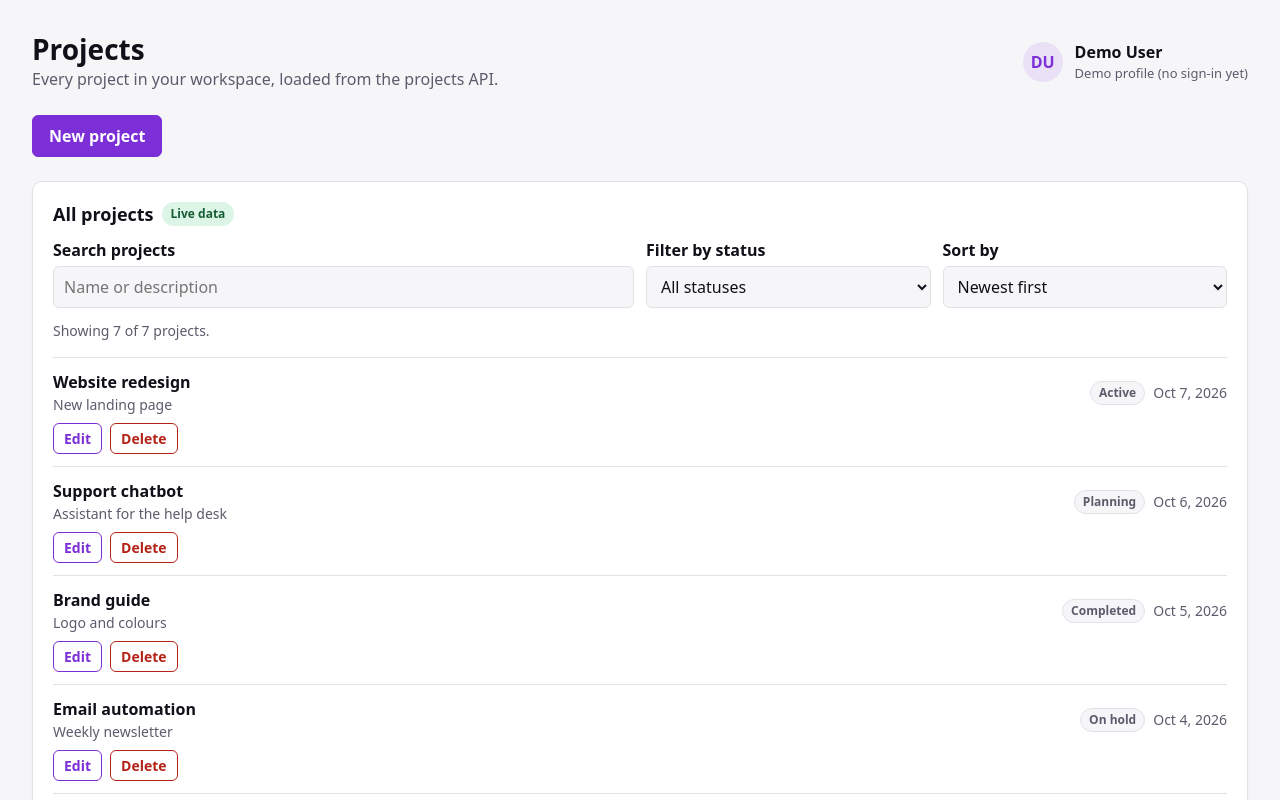
Projects page: create, edit, delete › says so when an edited project no longer matches the filter
Select "Completed" in the dropdown labelled "Filter by status" at (788, 287), box [646, 266, 930, 308]
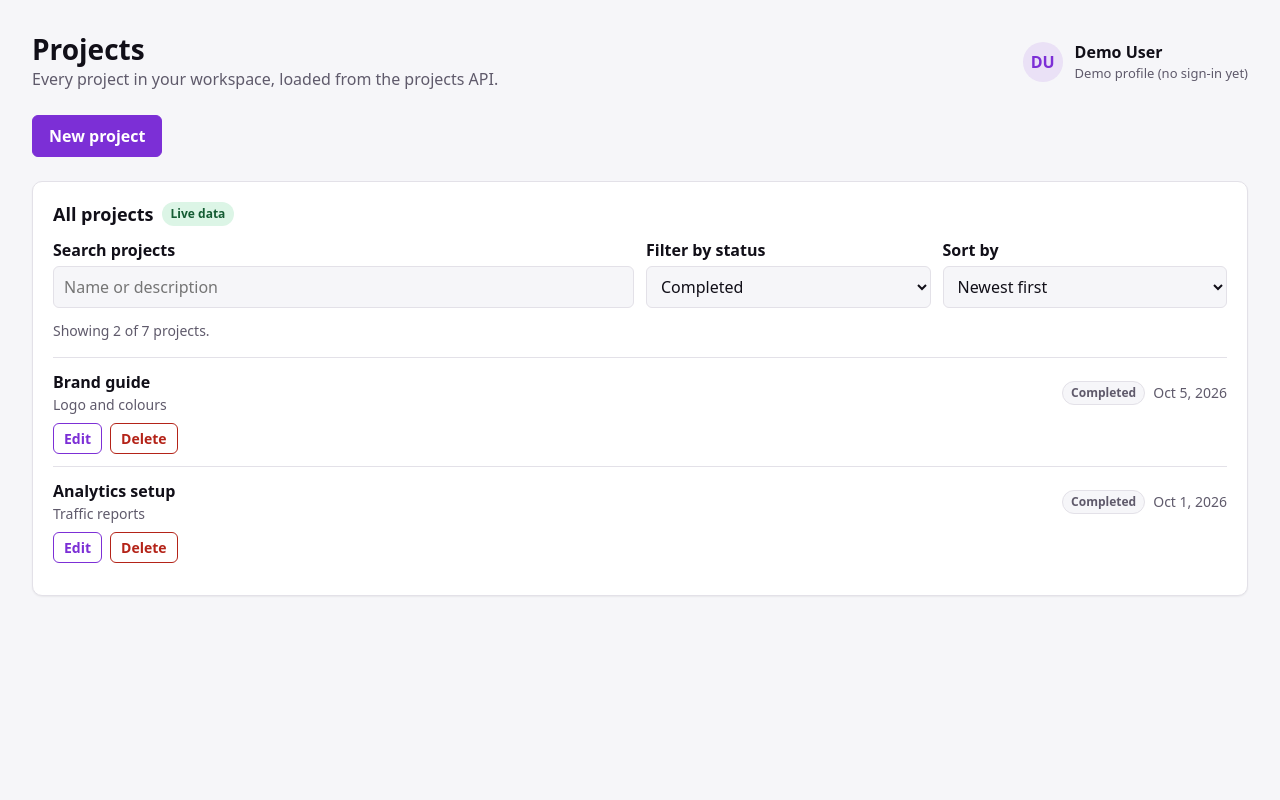
Click the button with aria-label "Edit Brand guide".
click(78, 438)  # box [53, 423, 102, 454]
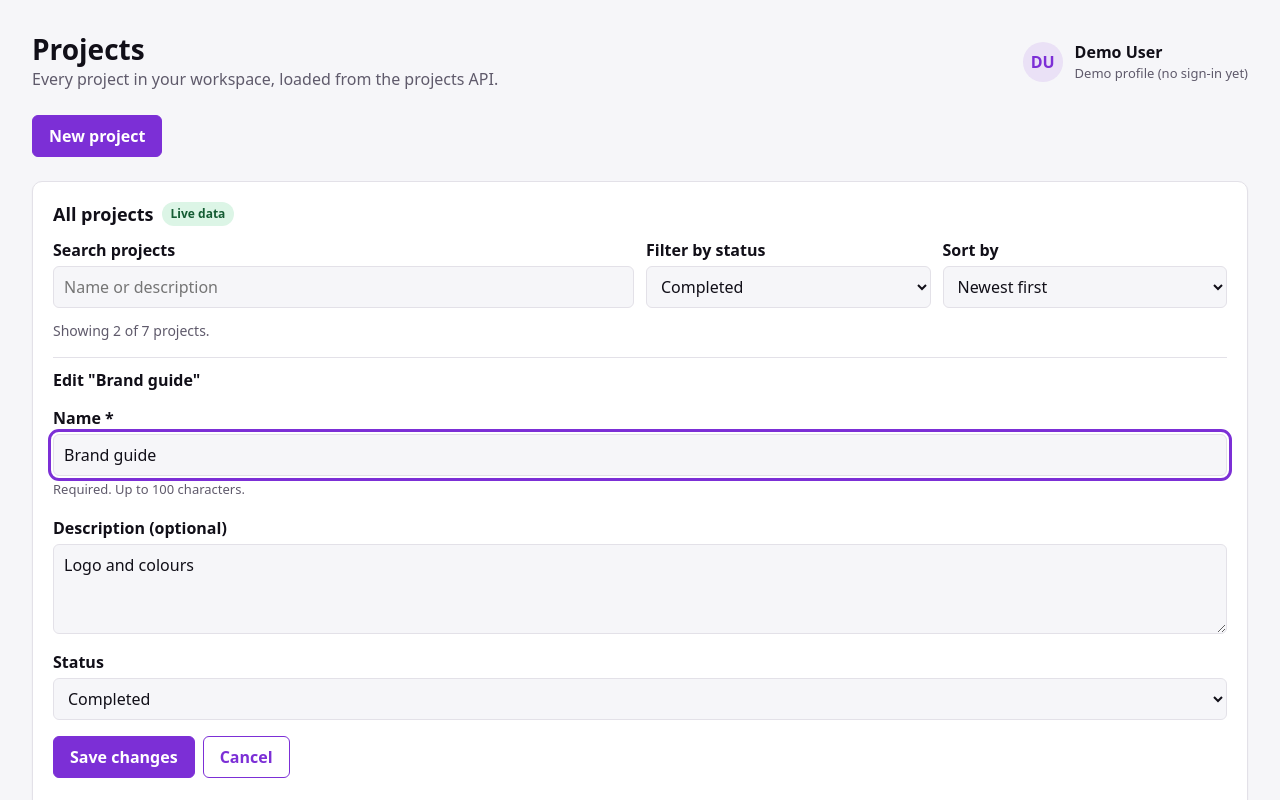
Select "Active" in the dropdown labelled "Status" at (640, 698), box [53, 678, 1227, 720]
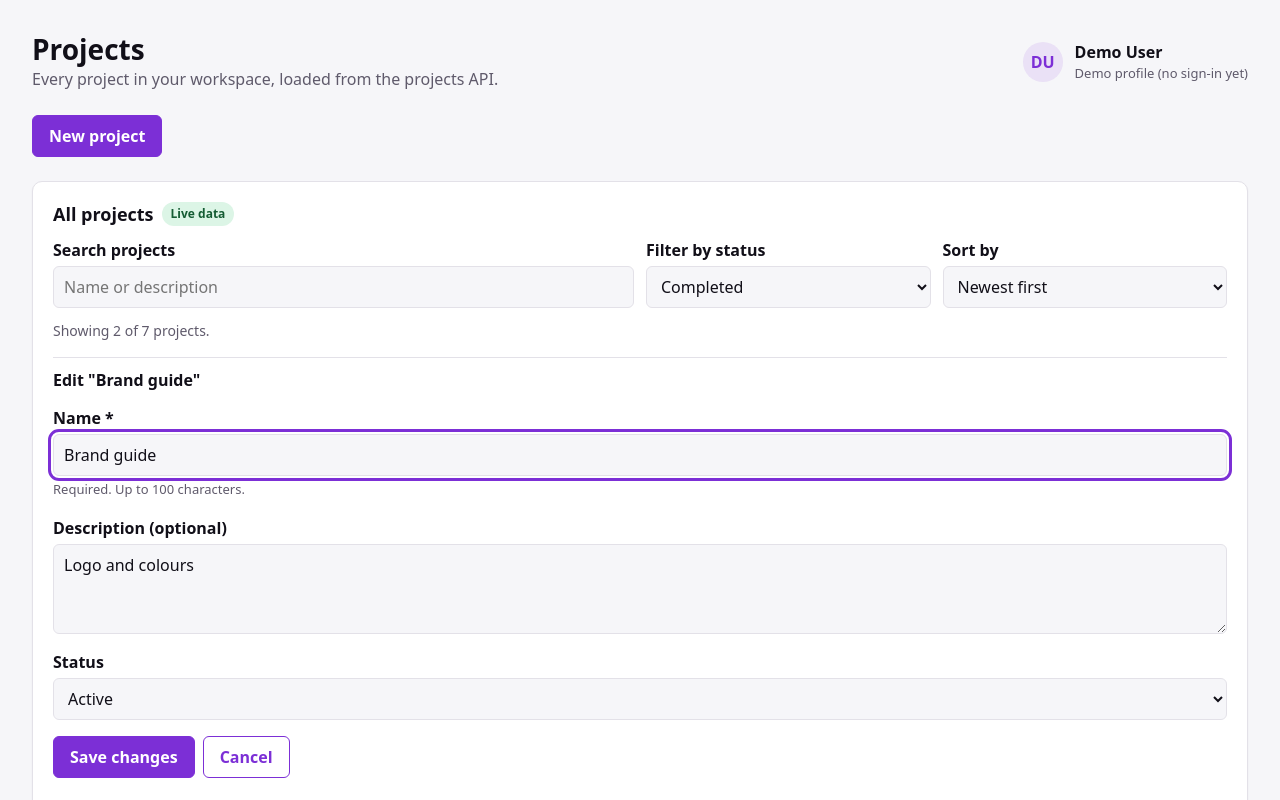
Click the button "Save changes".
click(124, 756)  # box [53, 736, 195, 778]
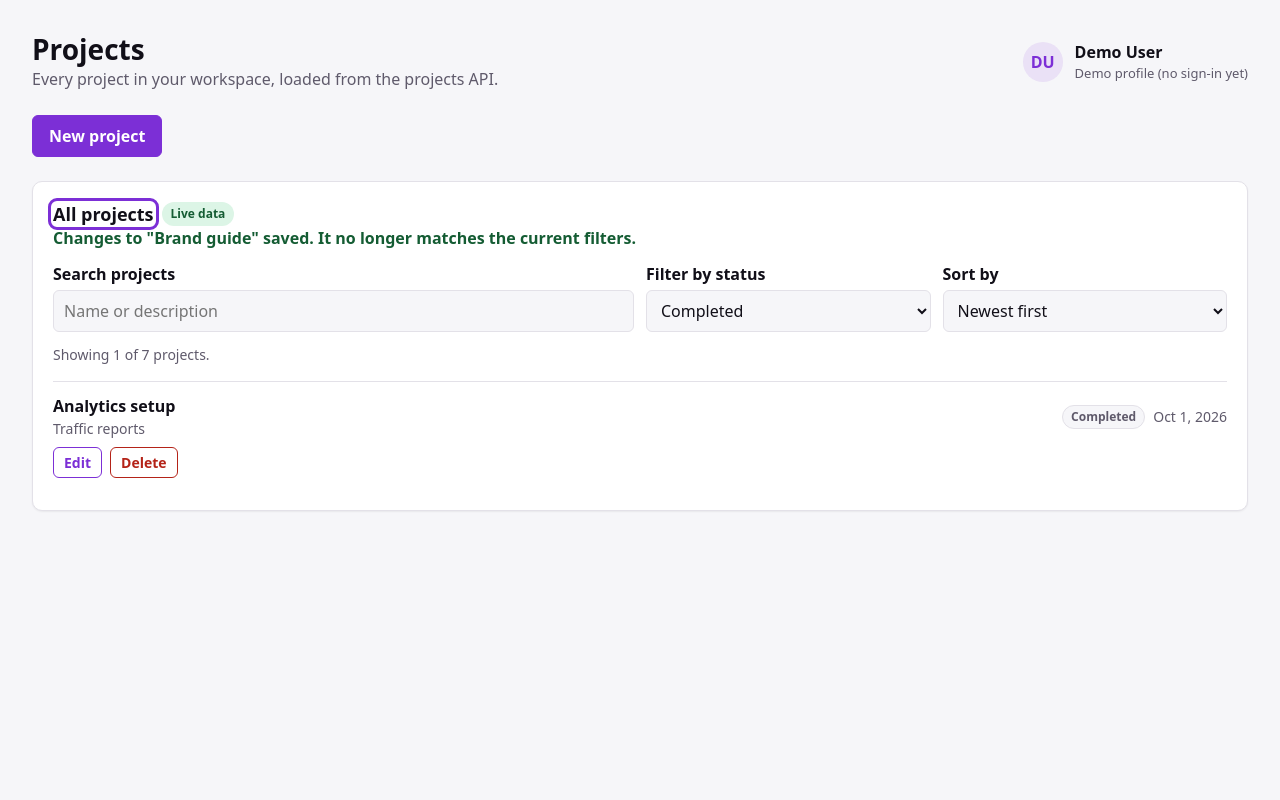
Expected: the text "Changes to \"Brand guide\" saved. It no longer matches the current filters." is shown, [53, 227, 636, 249]
